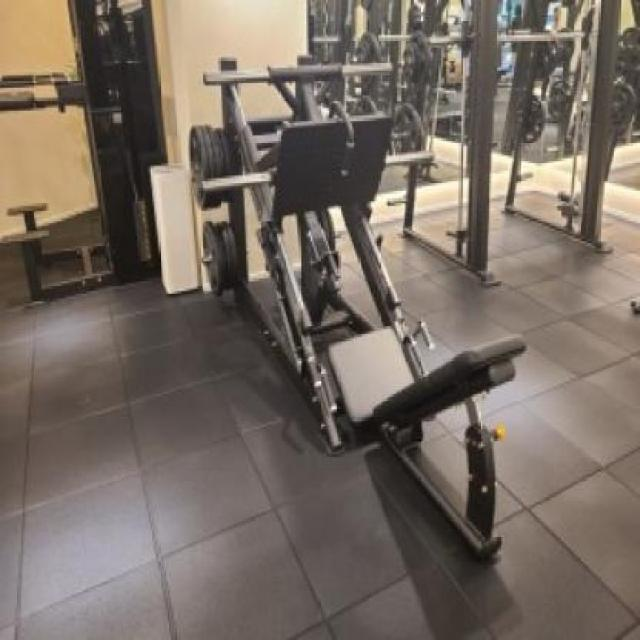leg press: (147, 42, 576, 580)
